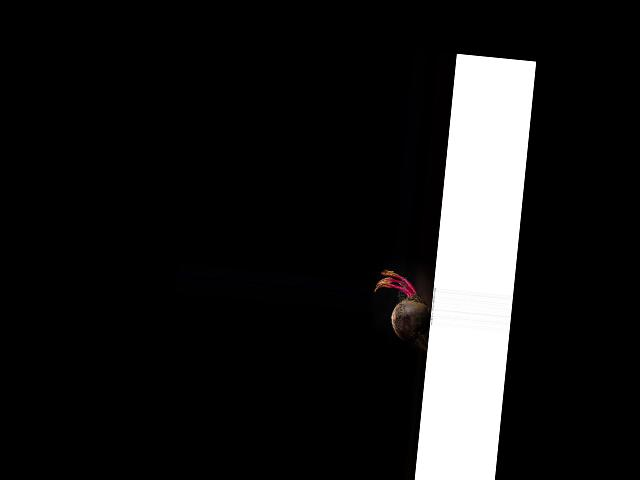beet: (369, 269, 434, 353)
